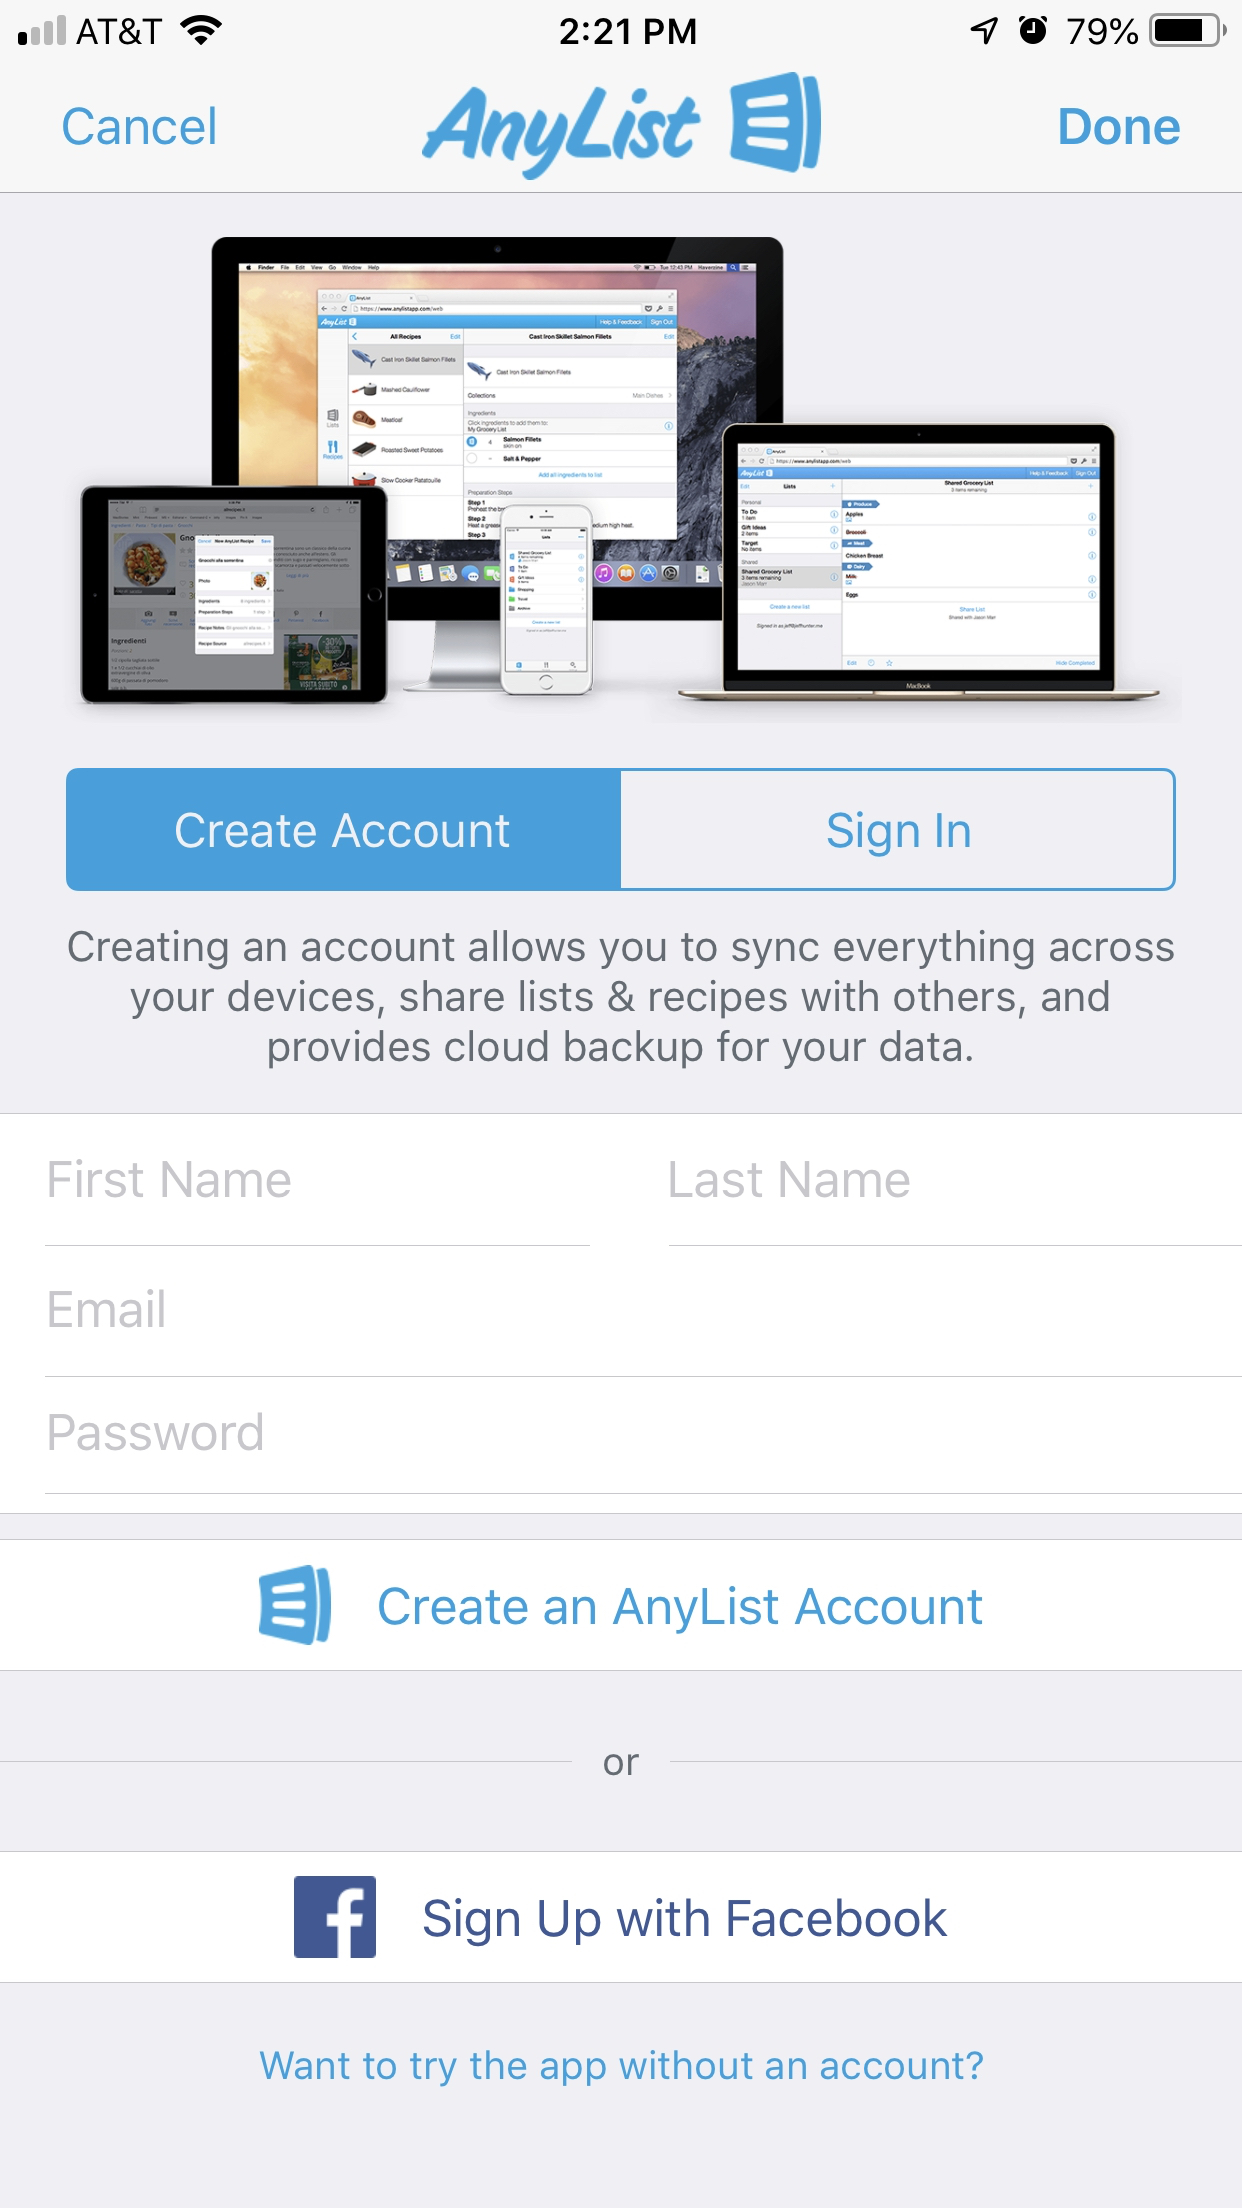EditText: (45, 1287, 1242, 1378), (45, 1410, 1242, 1495), (669, 1160, 1242, 1247), (45, 1159, 591, 1247)
Icon: (294, 1876, 378, 1959)
Image: (80, 237, 1162, 707), (422, 86, 704, 182), (729, 71, 822, 174), (259, 1563, 334, 1645)
Text: (68, 930, 1175, 1071), (379, 1586, 983, 1636), (259, 2050, 984, 2088), (425, 1897, 949, 1947), (49, 1159, 293, 1200), (670, 1162, 911, 1200), (50, 1410, 264, 1451), (64, 108, 215, 147), (1059, 108, 1181, 147), (50, 1287, 167, 1328), (604, 1753, 641, 1777)
TextButton: (67, 767, 622, 892), (622, 767, 1177, 892)
UpperTaskBar: (2, 2, 1242, 49)
